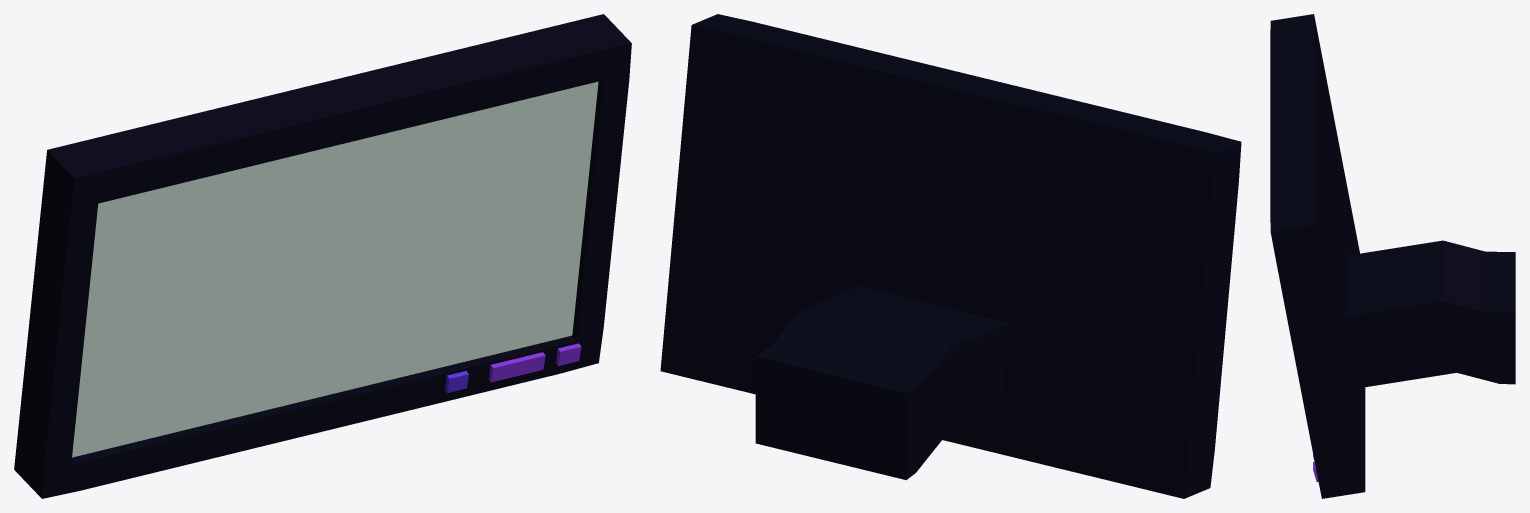
Rendered from RivenRoom_Monitor03.fbx.
The picture shows the model from 3 angles, left to right: view 1: azimuth 30°, elevation 25°; view 2: azimuth 150°, elevation 25°; view 3: azimuth 270°, elevation 25°; orthographic projection. The views are drawn at different scales.
Visible parts, largest first — view 1: Cube.122; view 2: Cube.122; view 3: Cube.122.
Boxes of the visible parts, x1,y1,x2,y2 form: Cube.122: (14,14,631,498); Cube.122: (660,14,1241,498); Cube.122: (1270,14,1515,498).
Bounding box in the file's own units: 74.45 × 45.05 × 36.4.
